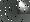person: (18, 1, 30, 15)
